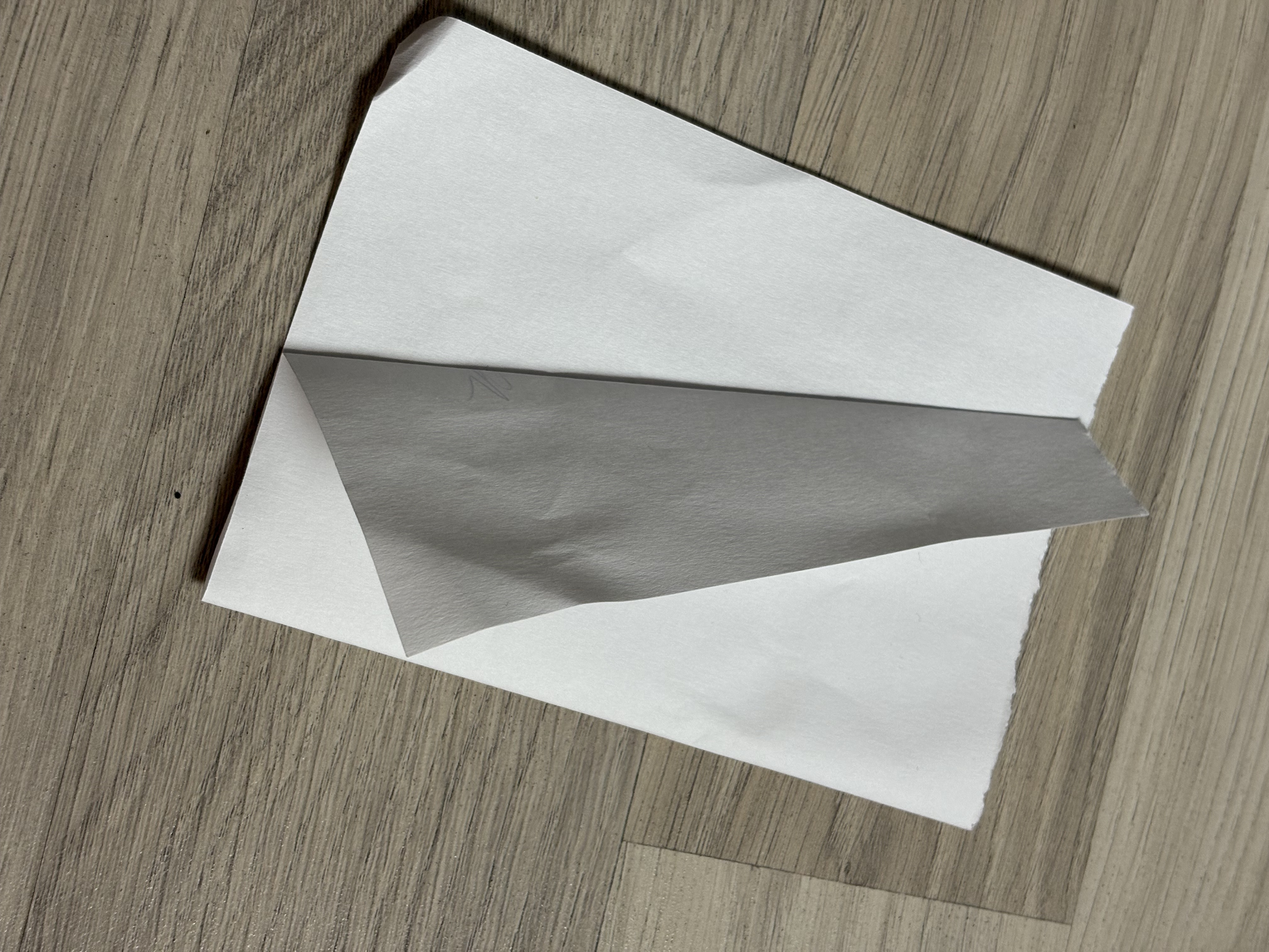paper: (177, 19, 1153, 840)
